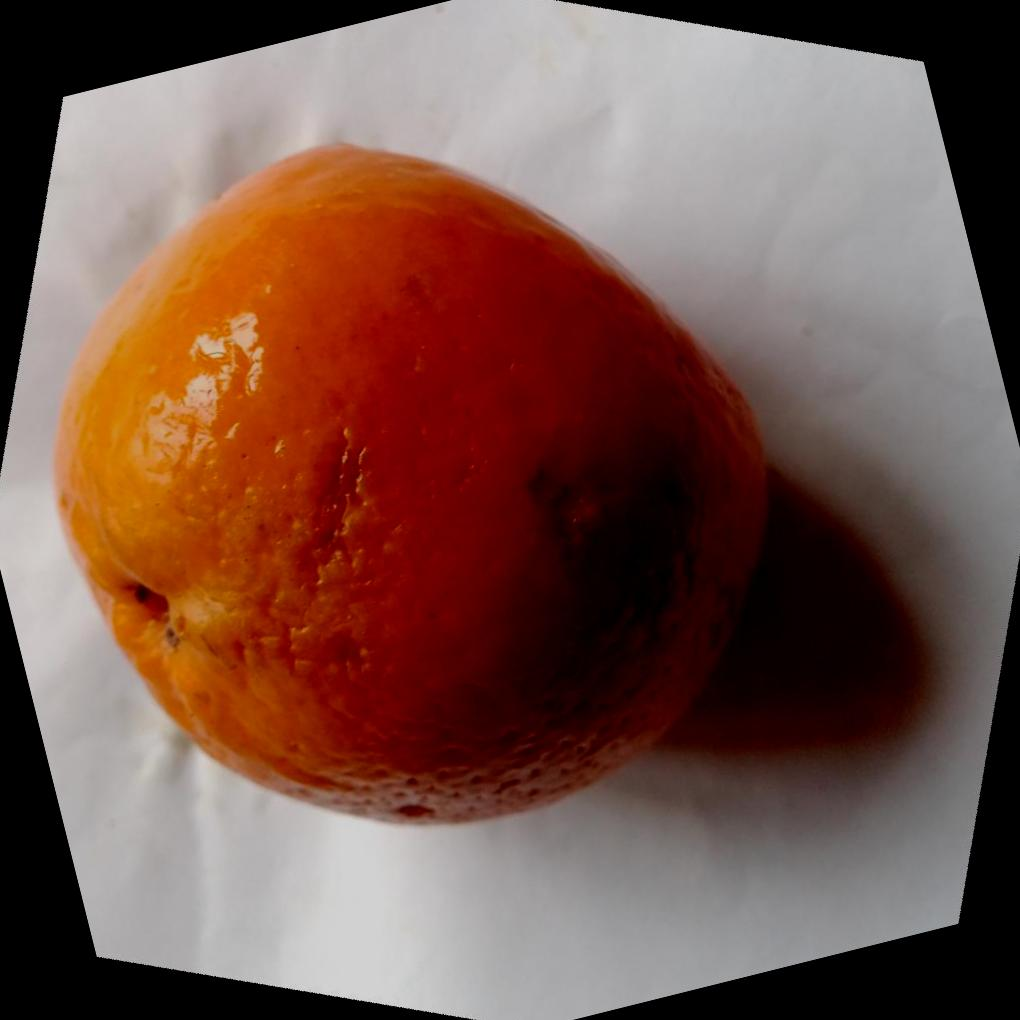FreshOrange: (49, 137, 771, 825)
